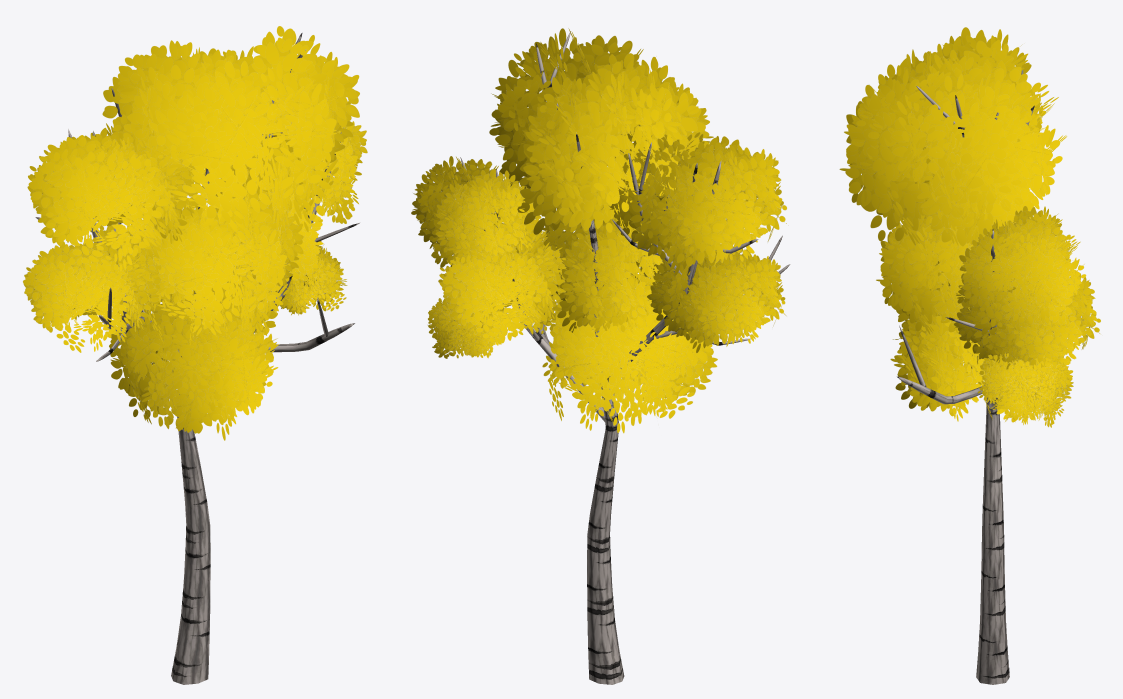
Rendered from BirchTree_3.glb.
3 views of the same model, side by side, from view 1: azimuth 30°, elevation 25°; view 2: azimuth 150°, elevation 25°; view 3: azimuth 270°, elevation 25° (orthographic). The views are drawn at different scales.
Parts seen in each view (by area): view 1: BirchTree_3; view 2: BirchTree_3; view 3: BirchTree_3.
Boxes of the visible parts, <box> form: BirchTree_3: <box>23,26,367,684</box>; BirchTree_3: <box>411,28,790,684</box>; BirchTree_3: <box>839,27,1100,684</box>.
Size of the model in its own units: 3.43 by 5.75 by 2.27.
2 materials, 2 textured.
